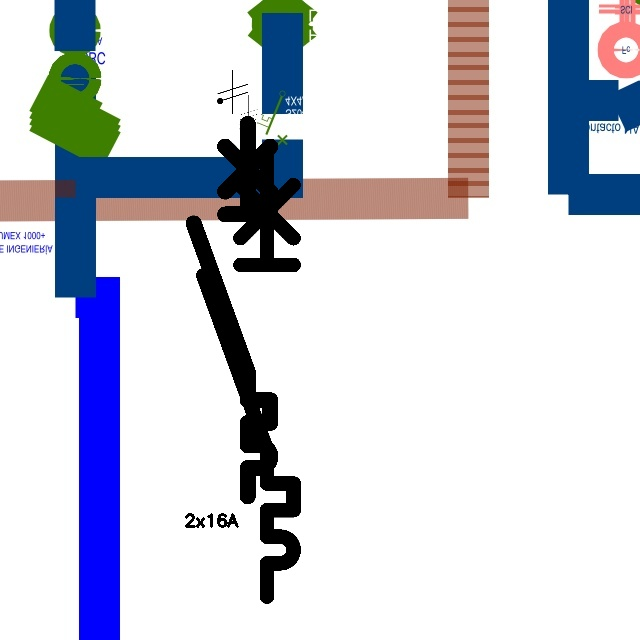interruptor_termomagnetico: (192, 147, 305, 607), (184, 114, 280, 506)
